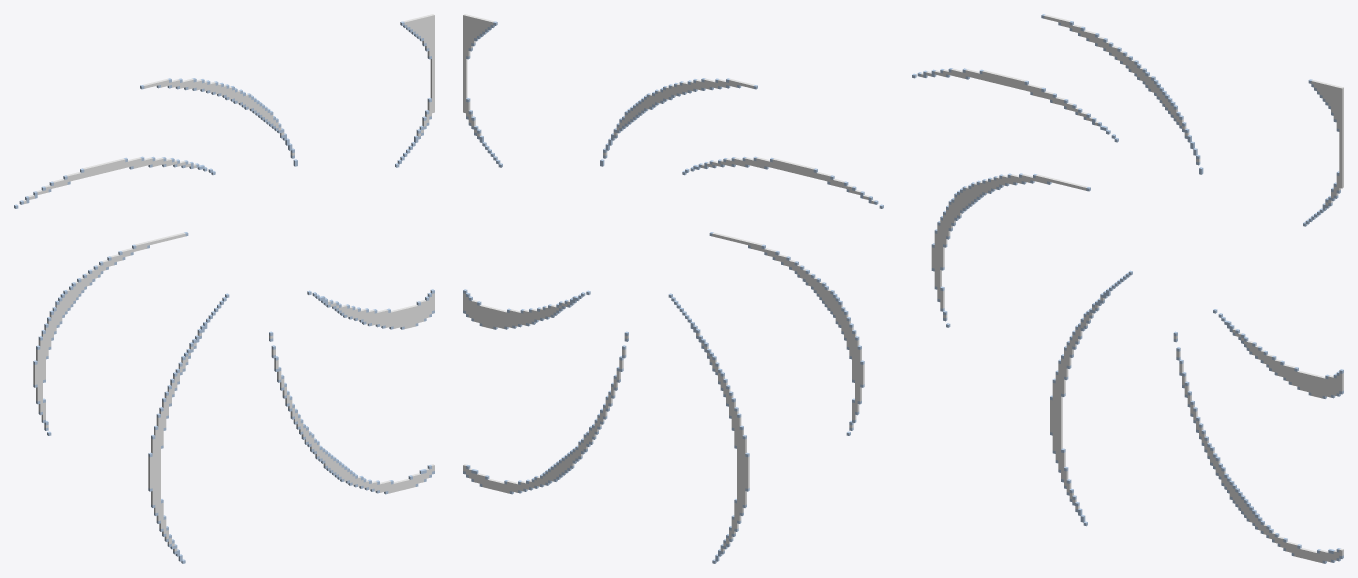
The model's file is Fight_028_2_06_fx.obj.
3 views of the same model, side by side, from view 1: azimuth 30°, elevation 25°; view 2: azimuth 150°, elevation 25°; view 3: azimuth 330°, elevation 25° (orthographic). The views are drawn at different scales.
Size of the model in its own units: 15.3 by 17 by 0.1.
